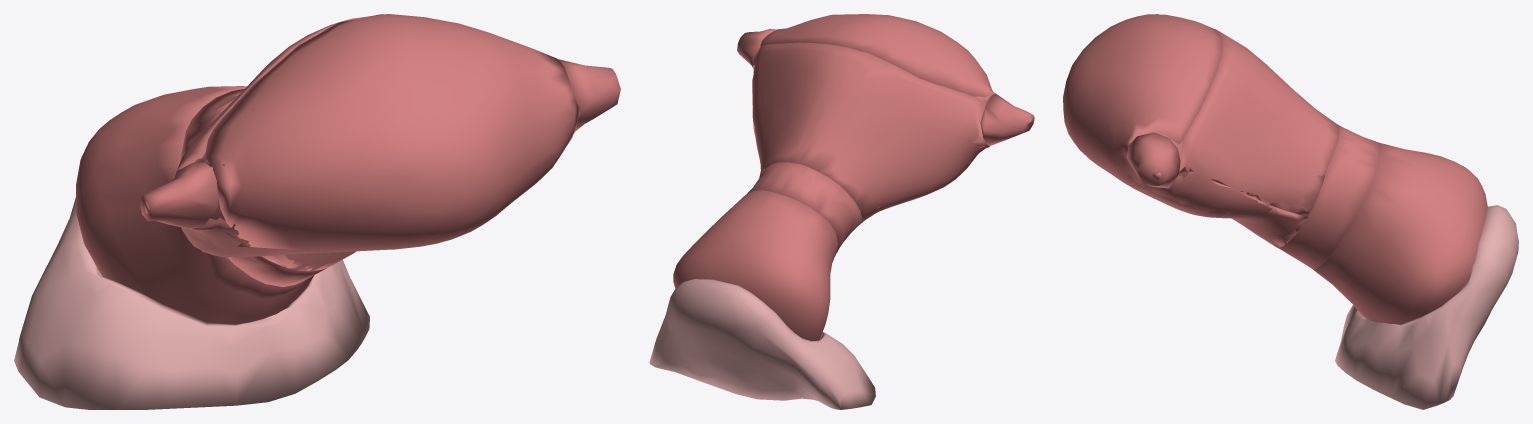
Rendered from 3d-vh-f-uterus_lod_20.glb.
3 views of the same model, side by side, from view 1: azimuth 30°, elevation 25°; view 2: azimuth 150°, elevation 25°; view 3: azimuth 270°, elevation 25° (orthographic). The views are drawn at different scales.
Parts seen in each view (by area): view 1: VH_F_fundus_of_uterus, VH_F_cervicovaginal_junction, VH_F_cervix, VH_F_cornua, VH_F_posterior_wall_of_uterus, VH_F_body_of_uterus, VH_F_lower_uterine_segment; view 2: VH_F_body_of_uterus, VH_F_cervicovaginal_junction, VH_F_cervix, VH_F_fundus_of_uterus, VH_F_lower_uterine_segment, VH_F_cornua, VH_F_anterior_wall_of_uterus; view 3: VH_F_cervix, VH_F_body_of_uterus, VH_F_fundus_of_uterus, VH_F_cervicovaginal_junction, VH_F_lower_uterine_segment, VH_F_posterior_wall_of_uterus, VH_F_cornua, VH_F_anterior_wall_of_uterus.
Boxes of the visible parts, x1,y1,x2,y2 form: VH_F_fundus_of_uterus: (205, 14, 580, 250); VH_F_cervicovaginal_junction: (14, 197, 369, 409); VH_F_cervix: (75, 86, 314, 324); VH_F_cornua: (140, 59, 620, 229); VH_F_posterior_wall_of_uterus: (201, 145, 566, 271); VH_F_body_of_uterus: (173, 16, 576, 271); VH_F_lower_uterine_segment: (181, 89, 326, 286); VH_F_body_of_uterus: (752, 42, 989, 226); VH_F_cervicovaginal_junction: (649, 279, 875, 409); VH_F_cervix: (673, 190, 838, 341); VH_F_fundus_of_uterus: (760, 14, 998, 97); VH_F_lower_uterine_segment: (747, 162, 861, 255); VH_F_cornua: (737, 28, 1034, 145); VH_F_anterior_wall_of_uterus: (752, 33, 992, 217); VH_F_cervix: (1313, 142, 1487, 323); VH_F_body_of_uterus: (1142, 29, 1339, 231); VH_F_fundus_of_uterus: (1063, 14, 1221, 186); VH_F_cervicovaginal_junction: (1335, 205, 1518, 409); VH_F_lower_uterine_segment: (1278, 125, 1380, 269); VH_F_posterior_wall_of_uterus: (1074, 142, 1307, 247); VH_F_cornua: (1126, 14, 1180, 188); VH_F_anterior_wall_of_uterus: (1157, 133, 1329, 216).
Size of the model in its own units: 0.0525 by 0.0507 by 0.0628.
